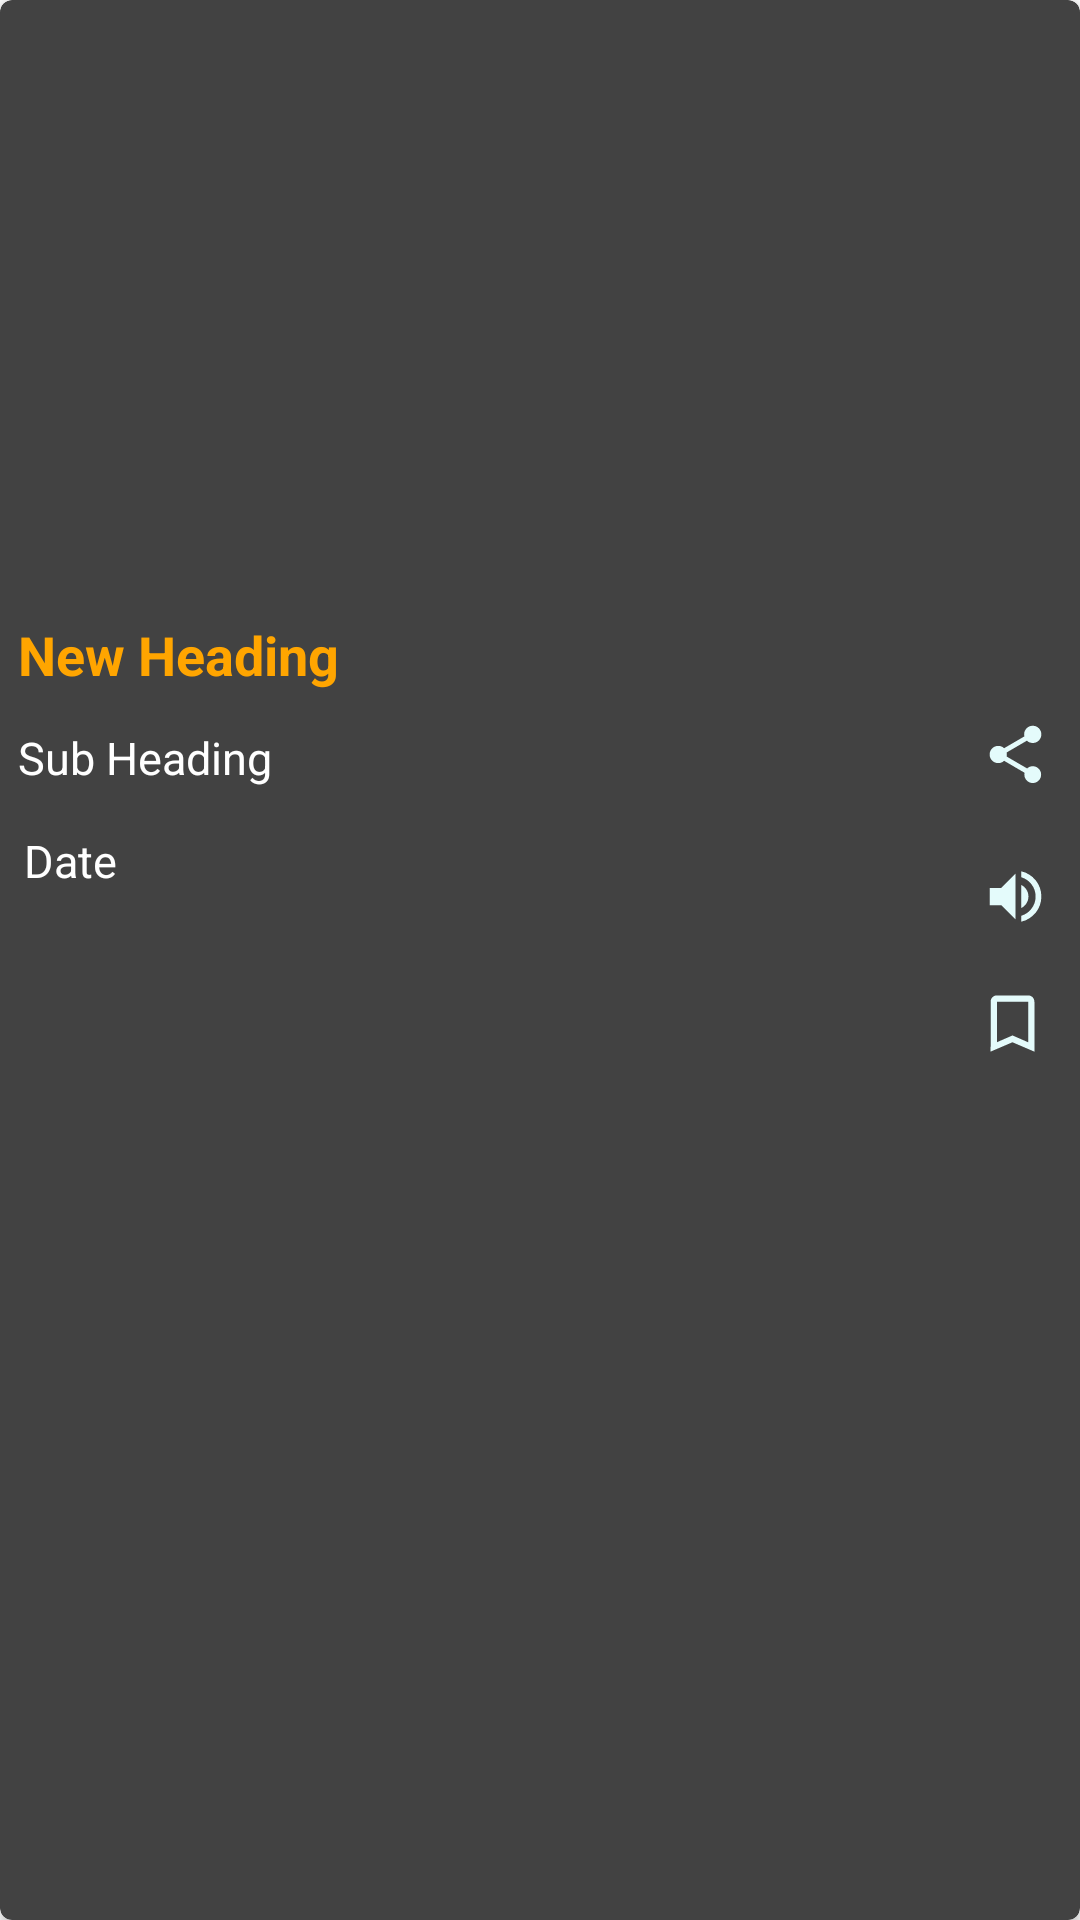

Locate icon controls on the screen. Image size 1080*1920, boxes as bbox=(x1, y1, x2, y2).
blank bookmark: bbox=(990, 995, 1035, 1052)
read aloud: bbox=(989, 871, 1042, 922)
share: bbox=(989, 725, 1042, 783)
